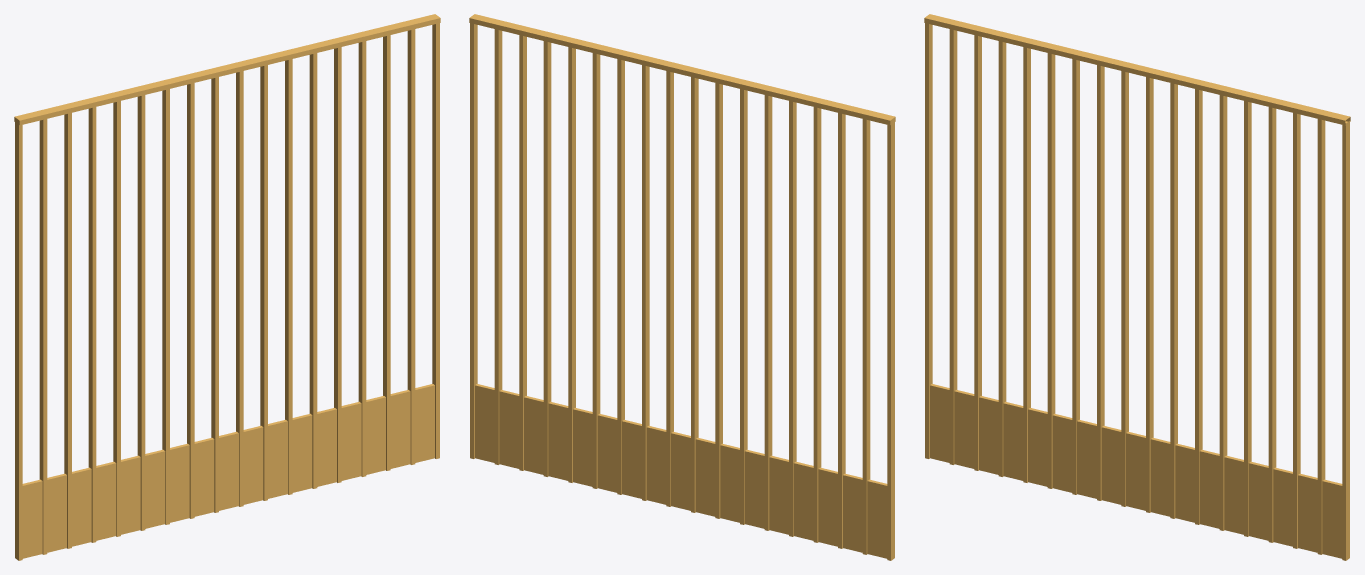
The model's file is Partitions_024.glb.
3 renders of one model, left to right at view 1: azimuth 30°, elevation 25°; view 2: azimuth 150°, elevation 25°; view 3: azimuth 330°, elevation 25°, orthographic.
Visible parts, largest first — view 1: Partitions_024; view 2: Partitions_024; view 3: Partitions_024.
Part boxes in pixels (bbox=[...]): Partitions_024: bbox=[14, 14, 440, 560]; Partitions_024: bbox=[469, 14, 895, 560]; Partitions_024: bbox=[924, 14, 1350, 560].
Size of the model in its own units: 4 by 4 by 0.0898.
Materials: 1 (1 with a texture image).
